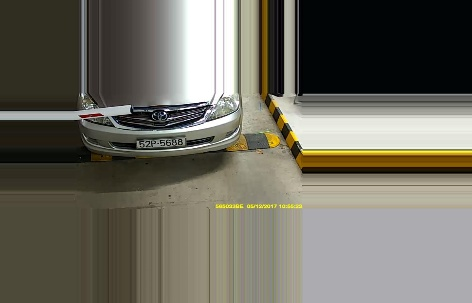plate: (135, 134, 187, 148)
